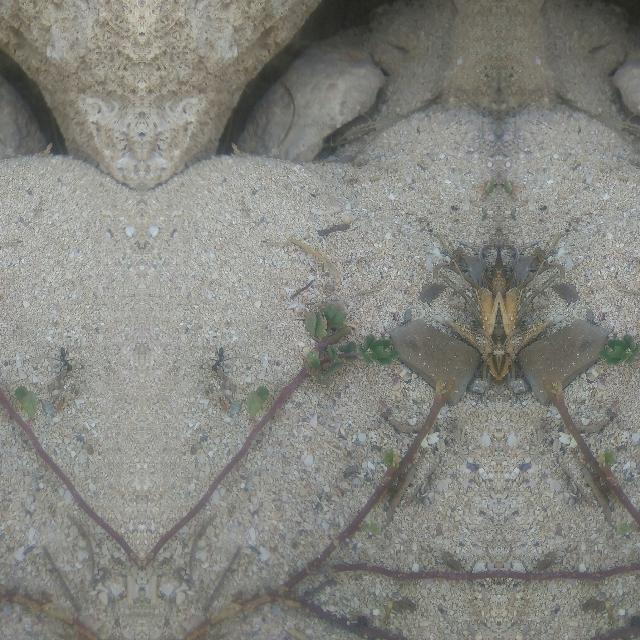Cataglyphis: (49, 336, 82, 380), (200, 336, 232, 380)
